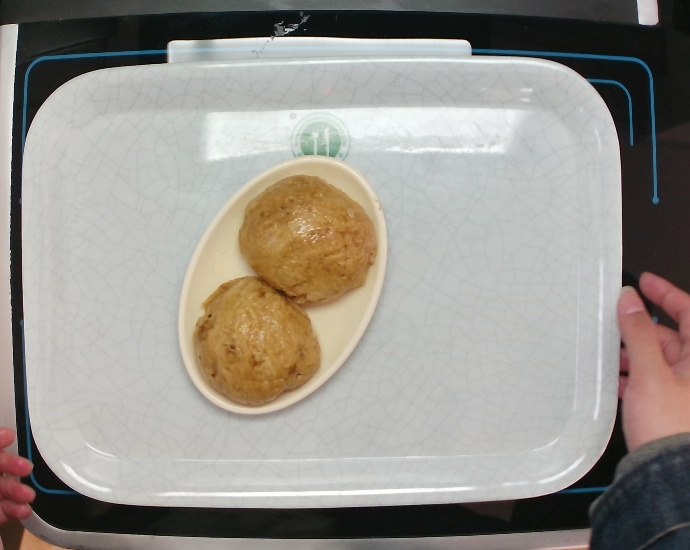JYsf-Tuo_Yuan_Wan: (176, 153, 389, 417)
